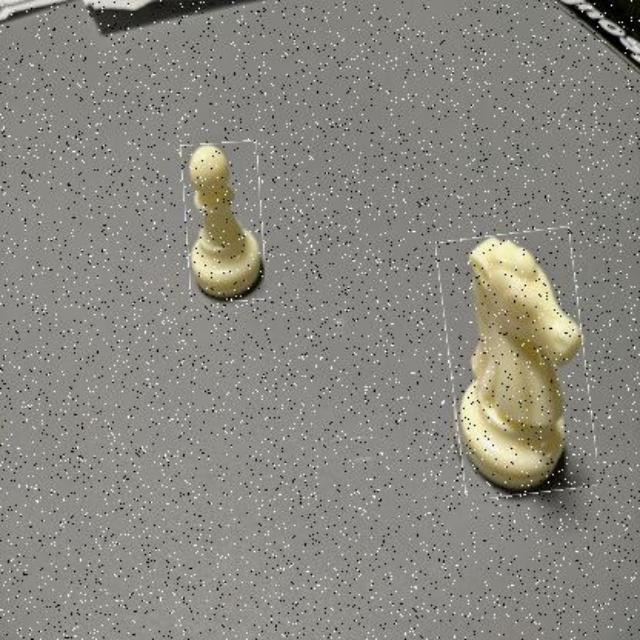white-knight: (443, 230, 592, 497)
white-pawn: (184, 141, 264, 302)
